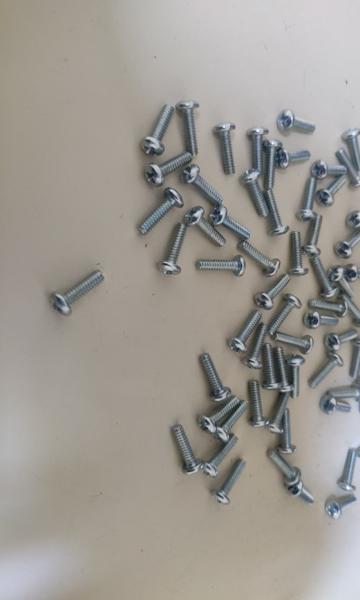shortscrew: (51, 270, 106, 316), (137, 188, 184, 236), (181, 164, 224, 208), (140, 104, 175, 157), (184, 206, 227, 249), (211, 458, 248, 506), (200, 434, 239, 478), (144, 152, 193, 187), (239, 239, 281, 278), (198, 396, 241, 434), (172, 424, 204, 475), (157, 223, 187, 277), (212, 400, 249, 442), (228, 310, 263, 354), (200, 353, 231, 402), (209, 206, 252, 241), (267, 294, 302, 336), (240, 169, 269, 219), (175, 100, 200, 156), (254, 274, 291, 311), (308, 351, 344, 389), (241, 322, 268, 370), (267, 449, 302, 486), (263, 189, 290, 236), (213, 122, 236, 176), (310, 257, 339, 299), (196, 256, 248, 277), (248, 379, 270, 428), (315, 176, 348, 208), (262, 139, 283, 189), (267, 391, 290, 435), (273, 347, 295, 393), (247, 127, 270, 170), (261, 343, 282, 390), (336, 148, 360, 189), (297, 178, 319, 222), (327, 265, 355, 299), (271, 333, 314, 355), (289, 232, 309, 277), (277, 109, 316, 132), (279, 409, 298, 454), (324, 496, 358, 521), (338, 450, 358, 492), (303, 216, 323, 258), (287, 355, 306, 399), (341, 129, 360, 171), (334, 229, 360, 259), (310, 298, 349, 318), (275, 148, 311, 169), (325, 330, 359, 352), (340, 293, 360, 329), (303, 310, 339, 330), (312, 160, 347, 180), (287, 481, 316, 505), (320, 395, 352, 415), (349, 339, 360, 379), (346, 211, 360, 236), (344, 265, 360, 283), (356, 434, 360, 459), (359, 377, 360, 417)
